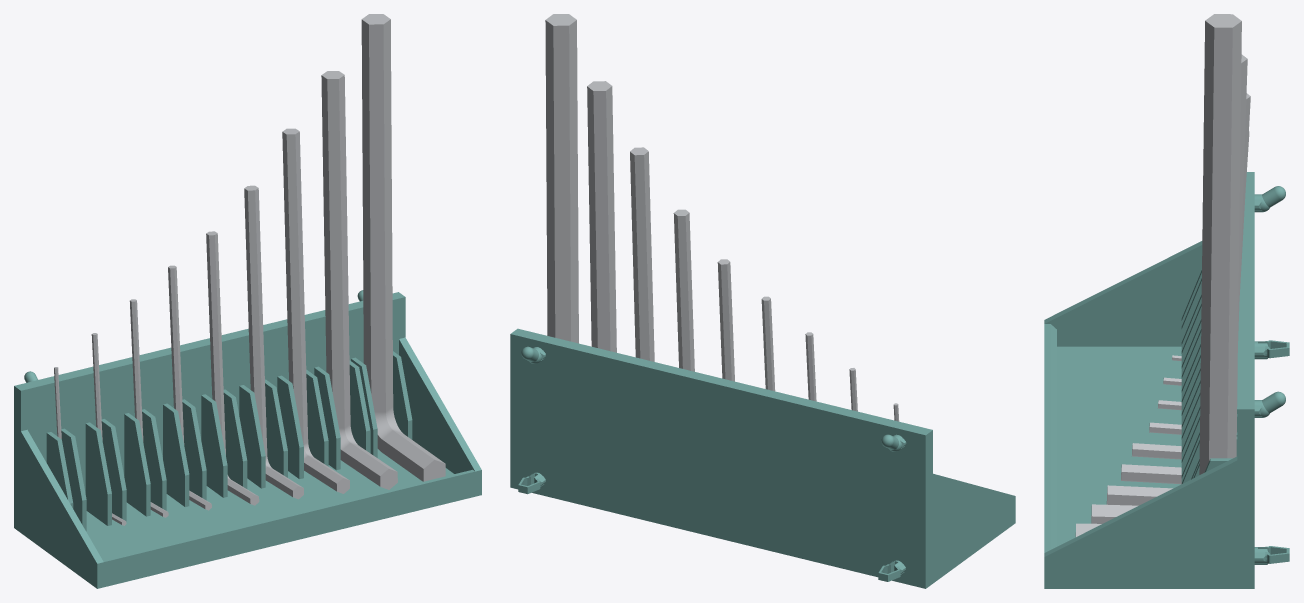
File: loaded.glb
The picture shows the model from 3 angles, left to right: view 1: azimuth 30°, elevation 25°; view 2: azimuth 150°, elevation 25°; view 3: azimuth 270°, elevation 25°; orthographic projection. The views are drawn at different scales.
Visible parts, largest first — view 1: holder, reference_envelope; view 2: holder, reference_envelope; view 3: holder, reference_envelope.
Part boxes in pixels (left/top/right/bottom): holder: left=14, top=290, right=481, bottom=588; reference_envelope: left=54, top=14, right=445, bottom=525; holder: left=510, top=328, right=1015, bottom=588; reference_envelope: left=545, top=14, right=899, bottom=421; holder: left=1044, top=172, right=1289, bottom=588; reference_envelope: left=1075, top=14, right=1250, bottom=536.
Bounding box in the file's own units: 0.1758 × 0.189 × 0.0768.
